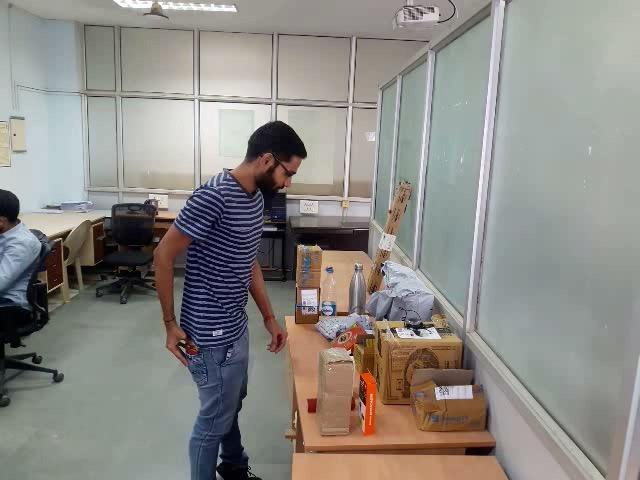shoplifting: (117, 286, 263, 403)
